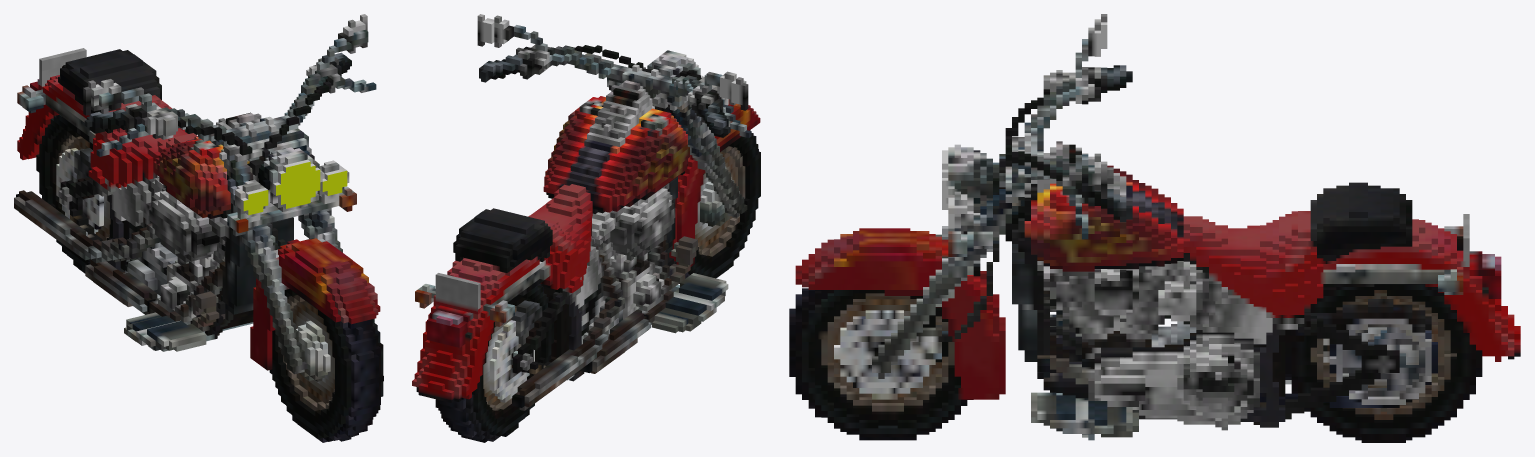
3 renders of one model, left to right at view 1: azimuth 30°, elevation 25°; view 2: azimuth 150°, elevation 25°; view 3: azimuth 270°, elevation 25°, orthographic. The views are drawn at different scales.
Parts seen in each view (by area): view 1: Voxelized_Bike; view 2: Voxelized_Bike; view 3: Voxelized_Bike.
Boxes of the visible parts, x1,y1,x2,y2 form: Voxelized_Bike: (14, 14, 383, 442); Voxelized_Bike: (412, 14, 760, 442); Voxelized_Bike: (789, 14, 1520, 442).
Size of the model in its own units: 5700 by 6000 by 11500.
